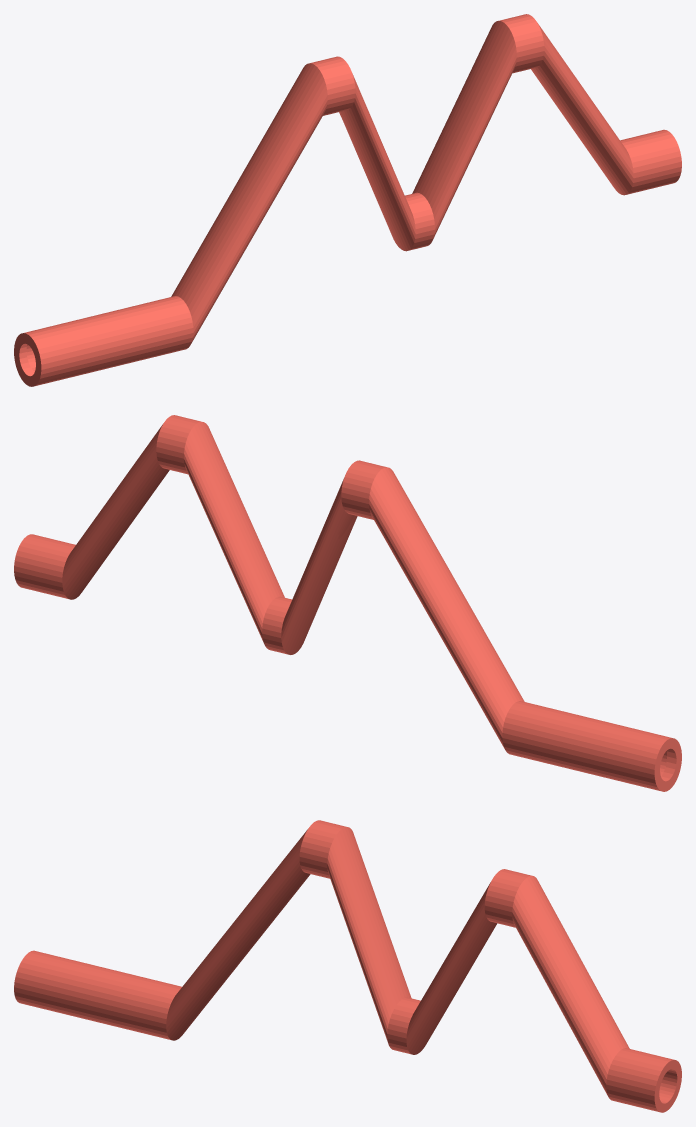
The model's file is heater.obj.
3 views of the same model, one above another, from view 1: azimuth 30°, elevation 25°; view 2: azimuth 150°, elevation 25°; view 3: azimuth 330°, elevation 25° (orthographic).
Parts seen in each view (by area): view 1: Плоскость; view 2: Плоскость; view 3: Плоскость.
Part boxes in pixels (left/top/right/bottom): Плоскость: left=14, top=14, right=681, bottom=386; Плоскость: left=14, top=415, right=681, bottom=791; Плоскость: left=14, top=820, right=681, bottom=1112.
Size of the model in its own units: 0.6907 by 0.2569 by 0.0558.
Materials: 1 (1 with a texture image).
